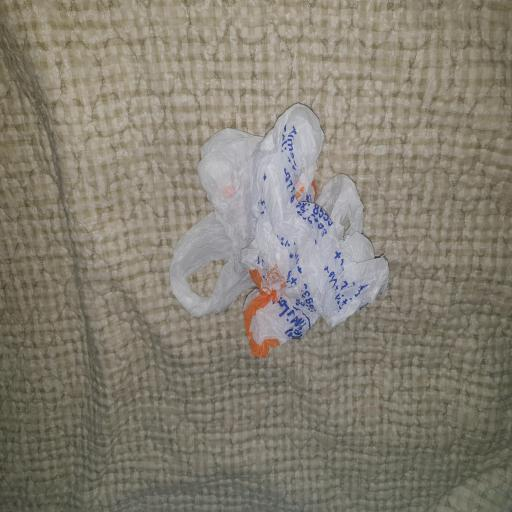plastic bag: (167, 102, 391, 358)
